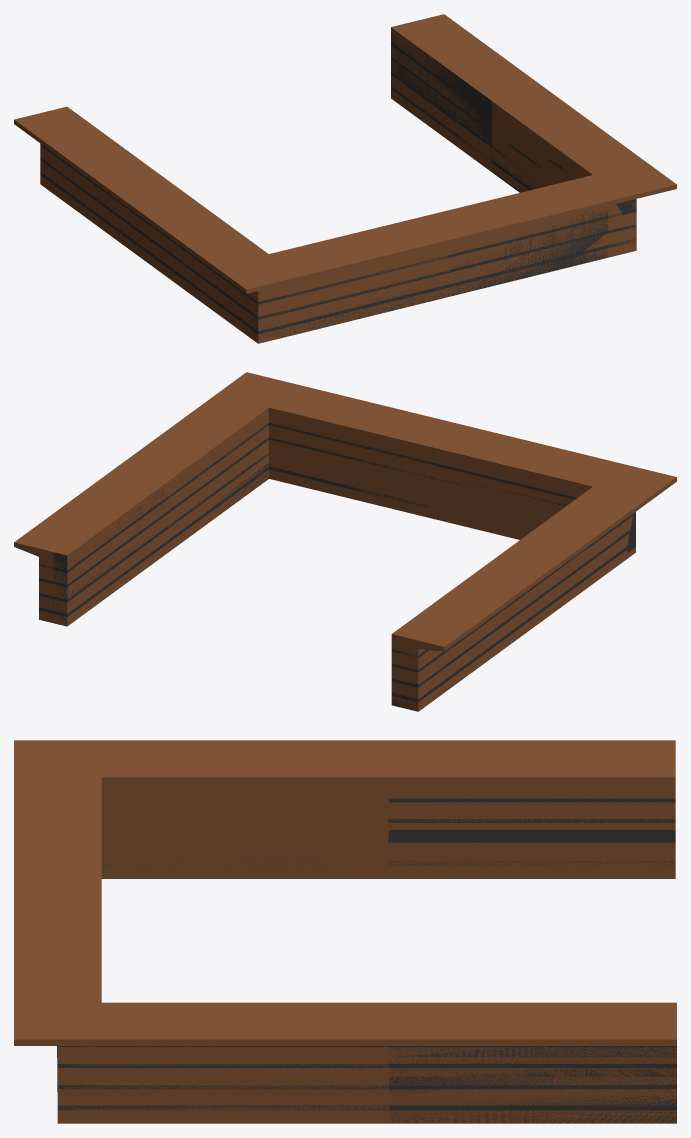
Rendered from bar2.fbx.
3 renders of one model, top to bottom at view 1: azimuth 30°, elevation 25°; view 2: azimuth 150°, elevation 25°; view 3: azimuth 270°, elevation 25°, orthographic. The views are drawn at different scales.
Visible parts, largest first — view 1: Cube, Cube_cell.005, Cube_cell.001, Cube_cell.007, Cube_cell.011, Cube_cell.002, Cube_cell.023, Cube_cell.020, Cube_cell.022, Cube_cell.003, Cube_cell.016, Cube_cell.017 (+1 smaller); view 2: Cube, Cube_cell.005, Cube_cell.007, Cube_cell.024, Cube_cell.002, Cube_cell.001, Cube_cell.021, Cube_cell.023; view 3: Cube, Cube_cell.024, Cube_cell.004, Cube_cell.010, Cube_cell.015, Cube_cell.007, Cube_cell.022, Cube_cell.002, Cube_cell.006, Cube_cell.023, Cube_cell.014, Cube_cell.013 (+7 smaller).
Part boxes in pixels (bbox=[...]): Cube: bbox=[14, 19, 676, 343]; Cube_cell.005: bbox=[431, 101, 621, 295]; Cube_cell.001: bbox=[391, 23, 505, 147]; Cube_cell.007: bbox=[14, 107, 164, 192]; Cube_cell.011: bbox=[271, 245, 448, 314]; Cube_cell.002: bbox=[405, 18, 527, 97]; Cube_cell.023: bbox=[426, 14, 546, 92]; Cube_cell.020: bbox=[250, 272, 450, 343]; Cube_cell.022: bbox=[391, 74, 491, 171]; Cube_cell.003: bbox=[563, 222, 636, 268]; Cube_cell.016: bbox=[114, 191, 234, 278]; Cube_cell.017: bbox=[461, 194, 637, 241]; Cube: bbox=[14, 372, 676, 711]; Cube_cell.005: bbox=[168, 410, 430, 526]; Cube_cell.007: bbox=[394, 561, 544, 681]; Cube_cell.024: bbox=[428, 475, 565, 538]; Cube_cell.002: bbox=[28, 472, 153, 576]; Cube_cell.001: bbox=[53, 478, 167, 601]; Cube_cell.021: bbox=[513, 485, 639, 566]; Cube_cell.023: bbox=[14, 467, 133, 546]; Cube: bbox=[14, 740, 676, 1123]; Cube_cell.024: bbox=[101, 815, 388, 878]; Cube_cell.004: bbox=[58, 1047, 389, 1099]; Cube_cell.010: bbox=[101, 777, 390, 814]; Cube_cell.015: bbox=[388, 842, 675, 878]; Cube_cell.007: bbox=[389, 740, 675, 775]; Cube_cell.022: bbox=[389, 1076, 676, 1123]; Cube_cell.002: bbox=[386, 1012, 676, 1057]; Cube_cell.006: bbox=[73, 1100, 390, 1123]; Cube_cell.023: bbox=[383, 1027, 676, 1045]; Cube_cell.014: bbox=[388, 775, 675, 829]; Cube_cell.013: bbox=[388, 830, 675, 842].
Bounding box in the file's own units: 774 × 122 × 724.
